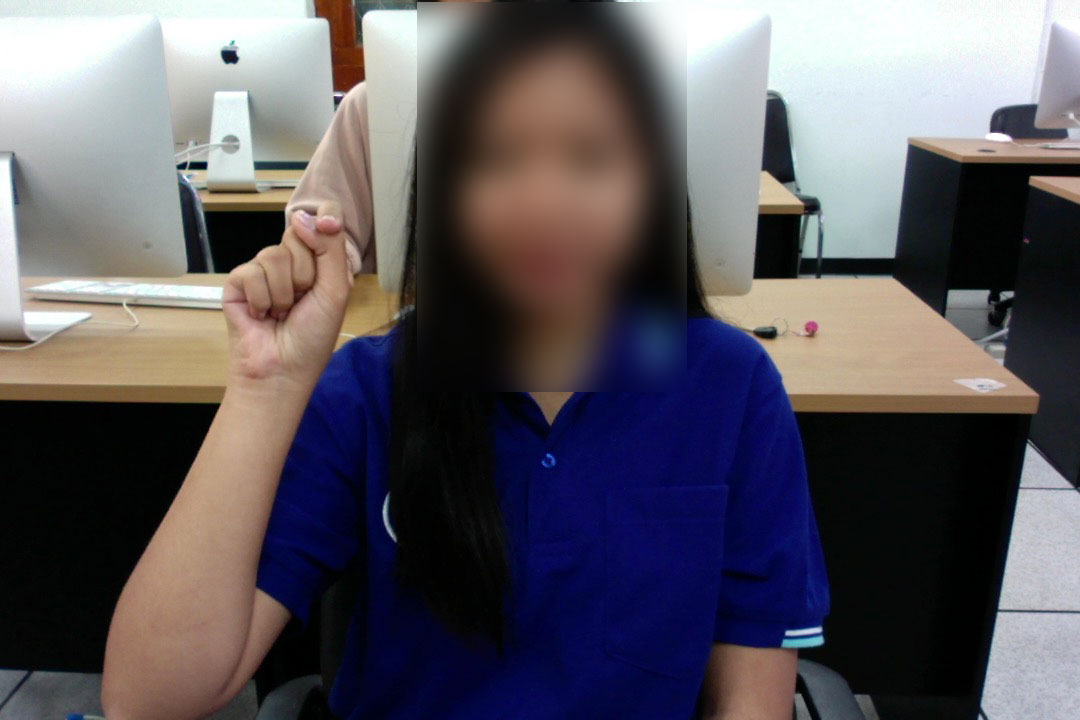tor: (214, 194, 360, 400)
